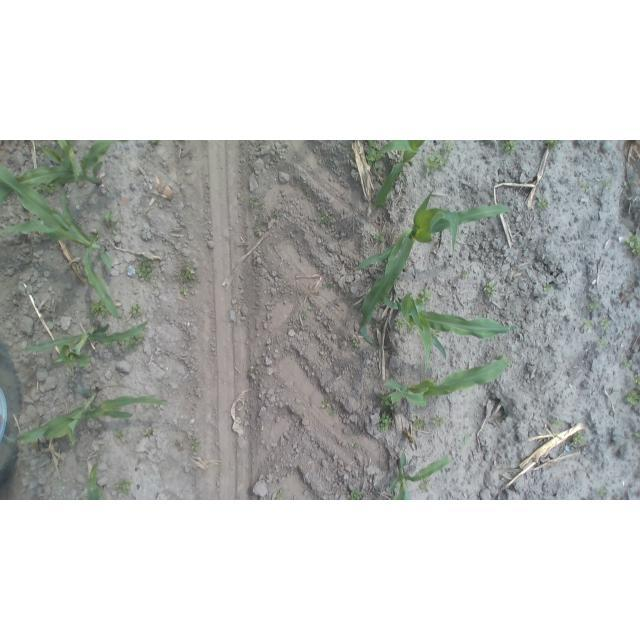Maize: (356, 190, 513, 347), (0, 164, 126, 324), (390, 287, 518, 373), (1, 388, 171, 448), (0, 141, 120, 208), (19, 315, 153, 373), (383, 354, 507, 411), (370, 140, 434, 214), (384, 452, 452, 501), (83, 448, 113, 500)
Weeds: (170, 261, 199, 298), (423, 154, 451, 175), (100, 212, 121, 237), (137, 257, 156, 284), (87, 300, 111, 321), (366, 141, 383, 169), (623, 231, 640, 257), (112, 478, 135, 495), (322, 397, 337, 420), (395, 318, 415, 334), (377, 412, 393, 432), (501, 142, 520, 158), (380, 395, 399, 410), (130, 302, 146, 318), (418, 288, 432, 306), (317, 210, 331, 228), (412, 417, 428, 432), (624, 390, 640, 405), (535, 195, 549, 212), (431, 415, 445, 430), (485, 283, 496, 301), (112, 427, 126, 441), (255, 221, 269, 235), (418, 480, 431, 495), (540, 281, 555, 294), (349, 488, 365, 500), (134, 333, 147, 347), (620, 355, 633, 369), (596, 337, 610, 350), (345, 442, 361, 453), (460, 434, 473, 447), (143, 427, 158, 438), (273, 489, 288, 500), (546, 141, 561, 152), (191, 437, 201, 453), (601, 318, 613, 331), (583, 319, 594, 333), (587, 299, 601, 310), (571, 433, 584, 444), (596, 487, 609, 497), (601, 179, 614, 189), (247, 195, 257, 208), (632, 373, 640, 389), (374, 233, 385, 244), (247, 362, 258, 373), (271, 209, 282, 220), (351, 336, 361, 348), (579, 183, 590, 193), (300, 309, 309, 321), (322, 281, 335, 289), (461, 269, 471, 279), (444, 141, 453, 152), (552, 420, 562, 429), (254, 209, 263, 217), (634, 431, 640, 441), (339, 241, 346, 247), (493, 418, 499, 425)
